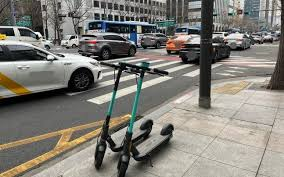guide_blocks: (213, 79, 252, 95)
kick_handler: (121, 61, 168, 77)
kick_wheel: (116, 150, 130, 176), (94, 141, 105, 169), (162, 125, 175, 141)
